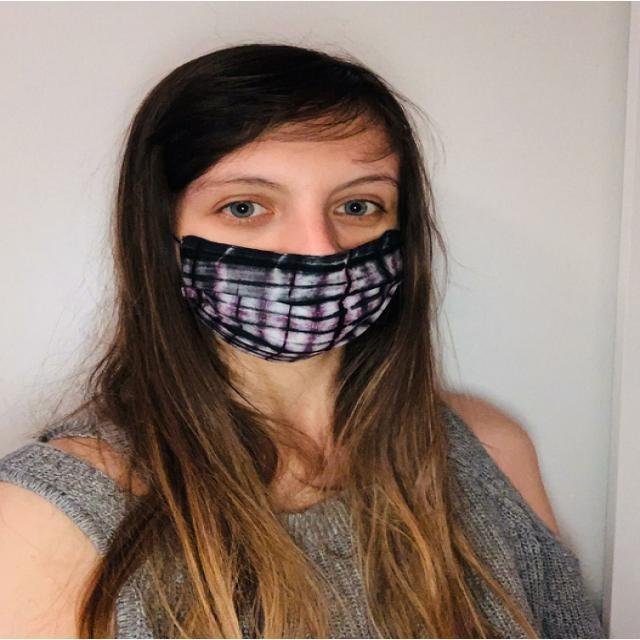hairnet: (144, 70, 430, 372)
